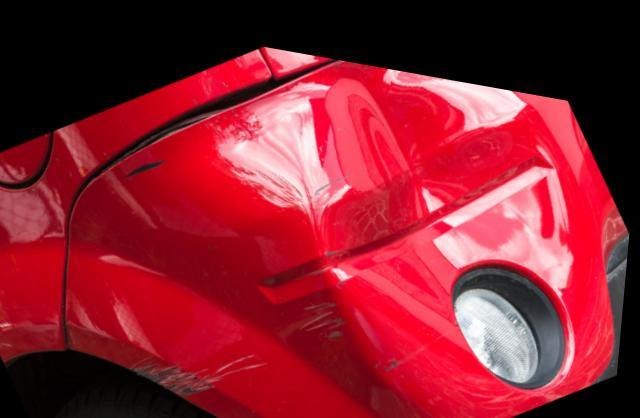dent: (322, 67, 544, 288)
scratch: (136, 338, 277, 392), (303, 279, 350, 336), (123, 148, 171, 178)
